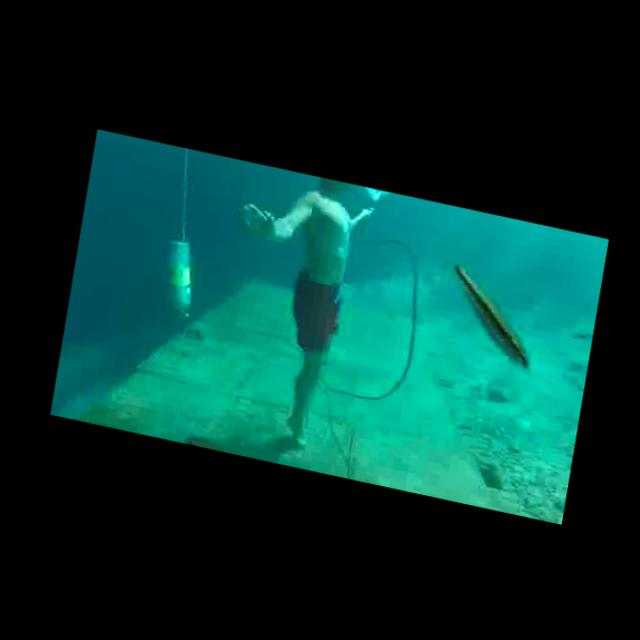human: (189, 159, 399, 463)
